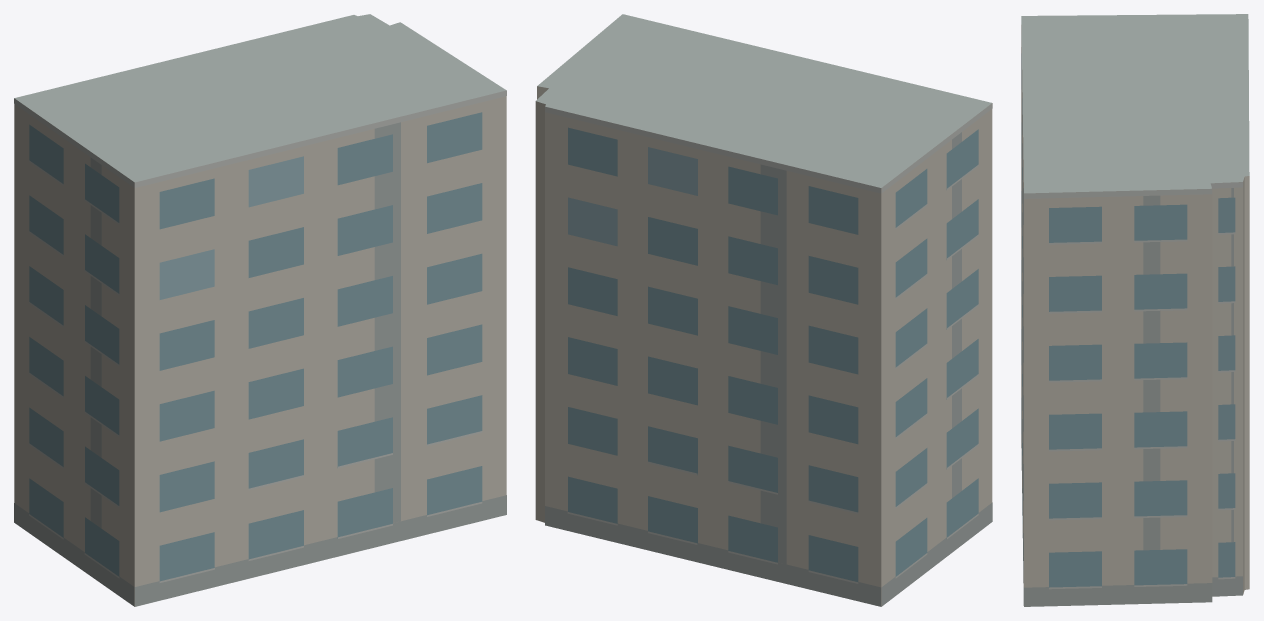
Rendered from survey-upis-32873209.glb.
The picture shows the model from 3 angles, left to right: view 1: azimuth 30°, elevation 25°; view 2: azimuth 150°, elevation 25°; view 3: azimuth 270°, elevation 25°; orthographic projection. The views are drawn at different scales.
Parts seen in each view (by area): view 1: survey-upis-32873209.tmp; view 2: survey-upis-32873209.tmp; view 3: survey-upis-32873209.tmp.
Boxes of the visible parts, box(x1,y1,x2,y2) form: survey-upis-32873209.tmp: box(14, 14, 506, 606); survey-upis-32873209.tmp: box(535, 14, 992, 606); survey-upis-32873209.tmp: box(1021, 14, 1249, 606).
Size of the model in its own units: 17.04 by 18.3 by 9.17.
